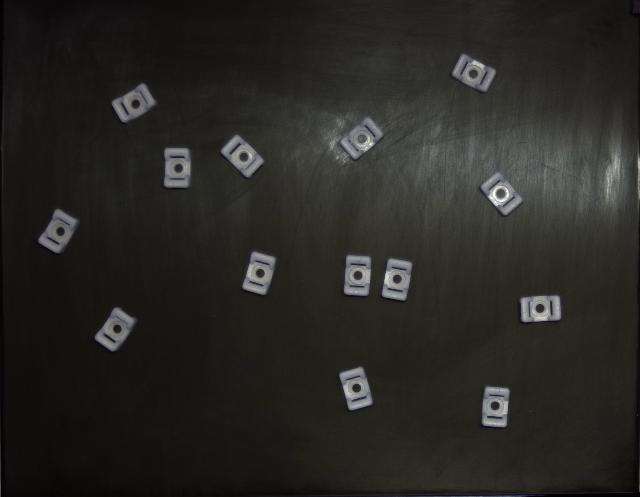first_side: (221, 135, 265, 179), (95, 308, 138, 352), (340, 118, 384, 160), (480, 172, 522, 216), (39, 210, 80, 254), (111, 84, 158, 122), (451, 54, 496, 92), (242, 253, 276, 295), (340, 368, 372, 411), (381, 259, 412, 301), (481, 386, 510, 428), (344, 255, 371, 296), (164, 149, 191, 189), (520, 296, 561, 322)
